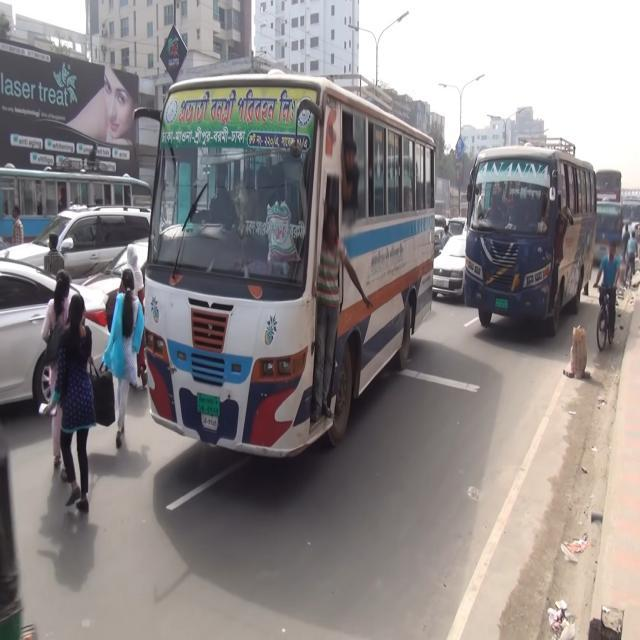bus: (145, 69, 435, 462), (464, 140, 598, 336)
